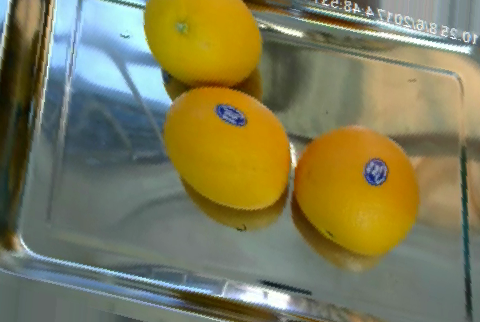Orange: (294, 123, 420, 254), (163, 85, 290, 210), (144, 0, 262, 85)
